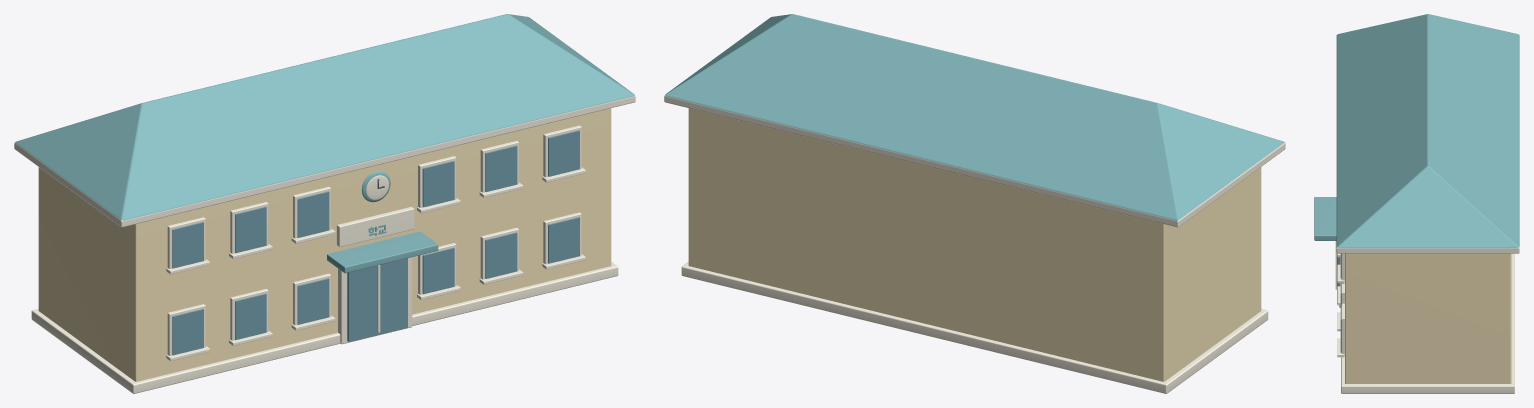
The model's file is SoftSchool.fbx.
3 renders of one model, left to right at view 1: azimuth 30°, elevation 25°; view 2: azimuth 150°, elevation 25°; view 3: azimuth 270°, elevation 25°, orthographic. The views are drawn at different scales.
Visible parts, largest first — view 1: SchoolRoof, SchoolWalls, Foundation, EntryDoor, EntranceCanopy, SchoolSign, Window_0_2_Glass, Window_0_3_Glass, Window_1_4_Glass, Window_0_4_Glass, Window_1_2_Glass, Window_1_3_Glass (+7 smaller); view 2: SchoolWalls, SchoolRoof, Foundation; view 3: SchoolRoof, SchoolWalls, Foundation, EntranceCanopy, Window_0_5_Frame.
Boxes of the visible parts, x1,y1,x2,y2 form: SchoolRoof: (14, 14, 635, 227); SchoolWalls: (38, 108, 611, 381); Foundation: (31, 262, 618, 393); EntryDoor: (347, 258, 407, 341); EntranceCanopy: (327, 231, 438, 273); SchoolSign: (336, 206, 414, 246); Window_0_2_Glass: (297, 278, 329, 324); Window_0_3_Glass: (422, 247, 454, 294); Window_1_4_Glass: (485, 145, 517, 191); Window_0_4_Glass: (485, 232, 517, 278); Window_1_2_Glass: (297, 191, 329, 237); Window_1_3_Glass: (422, 161, 454, 207); SchoolWalls: (688, 108, 1261, 381); SchoolRoof: (664, 14, 1285, 227); Foundation: (681, 262, 1268, 393); SchoolRoof: (1336, 14, 1519, 253); SchoolWalls: (1345, 253, 1511, 383); Foundation: (1341, 253, 1514, 393); EntranceCanopy: (1314, 197, 1336, 240); Window_0_5_Frame: (1341, 303, 1344, 355).
Bounding box in the file's own units: 16.43 × 7.3 × 6.67.
